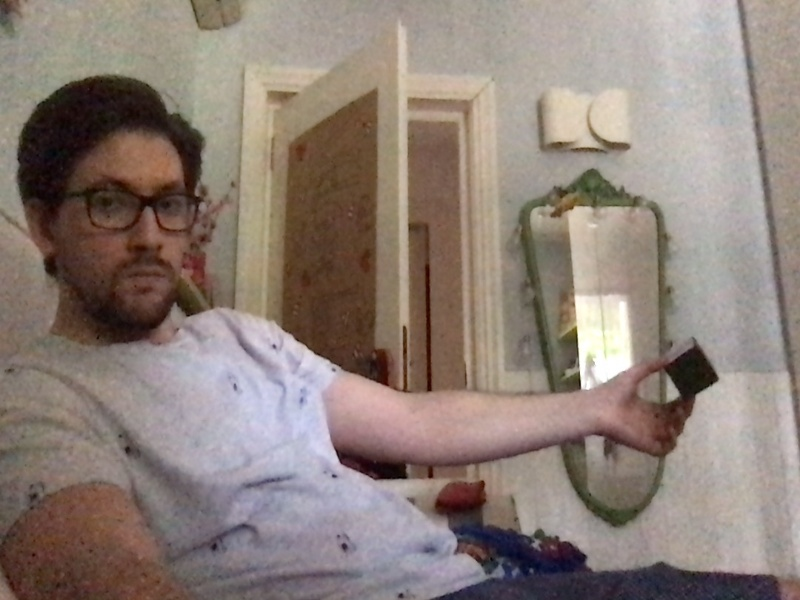rubik: (662, 338, 720, 399)
